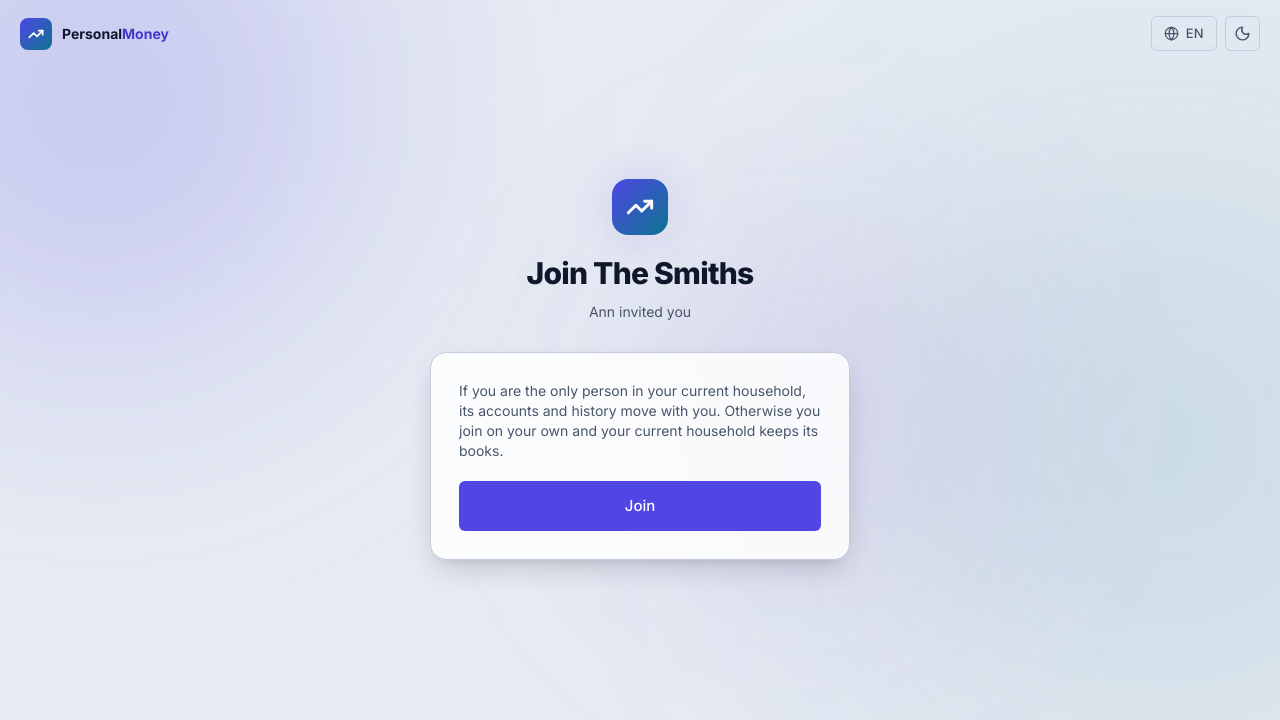
Test: shows the server message when the owner of a shared household cannot move
Click the button "Join". click: (640, 506)
box: [459,481,821,531]
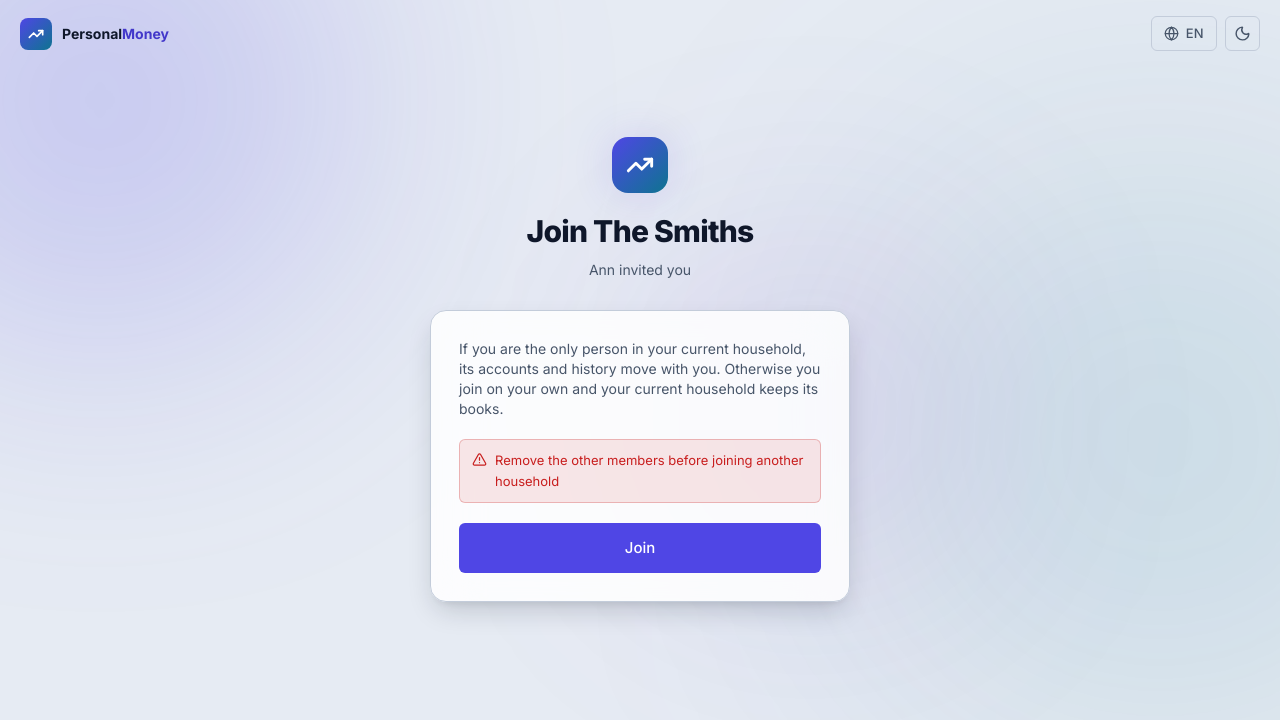
Expected: the button "Join" is enabled, [459,523,821,573]
Result: the message reads "Remove the other members before joining another household" at [495,452,803,489]
